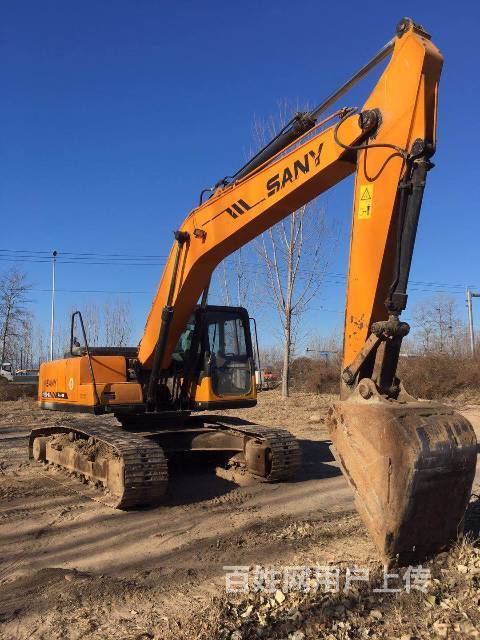excavator: (31, 23, 475, 568)
